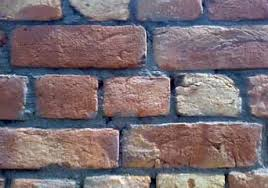brick: (130, 127, 261, 169), (13, 28, 144, 66), (1, 128, 117, 168), (154, 27, 268, 67), (37, 77, 96, 117), (106, 80, 169, 115), (181, 79, 238, 115), (1, 1, 62, 21), (1, 75, 28, 119), (139, 1, 202, 19), (208, 1, 268, 18), (84, 1, 129, 20), (86, 175, 149, 188), (157, 175, 225, 187), (251, 79, 267, 116), (231, 172, 268, 187)
